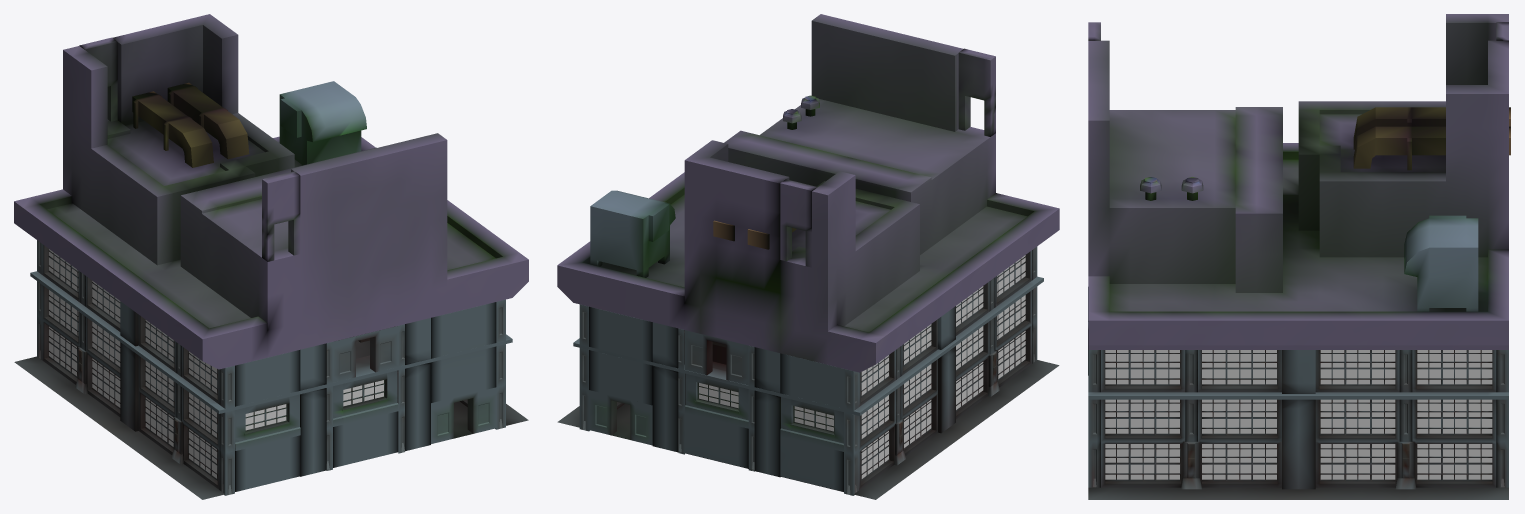
The picture shows the model from 3 angles, left to right: view 1: azimuth 30°, elevation 25°; view 2: azimuth 150°, elevation 25°; view 3: azimuth 270°, elevation 25°; orthographic projection. The views are drawn at different scales.
Parts seen in each view (by area): view 1: gap roof01, catwalk warehouse01, metalc, glass catwalk warehouse01; view 2: gap roof01, catwalk warehouse01, metalc, glass catwalk warehouse01; view 3: gap roof01, catwalk warehouse01, glass catwalk warehouse01, metalc.
Part boxes in pixels (left/top/right/bottom): gap roof01: left=14, top=14, right=528, bottom=369; catwalk warehouse01: left=14, top=240, right=528, bottom=499; metalc: left=48, top=81, right=384, bottom=480; glass catwalk warehouse01: left=49, top=249, right=383, bottom=478; gap roof01: left=557, top=14, right=1059, bottom=372; catwalk warehouse01: left=557, top=246, right=1059, bottom=499; metalc: left=590, top=95, right=1025, bottom=480; glass catwalk warehouse01: left=699, top=255, right=1025, bottom=478; gap roof01: left=1088, top=14, right=1508, bottom=349; catwalk warehouse01: left=1088, top=287, right=1508, bottom=499; glass catwalk warehouse01: left=1105, top=350, right=1492, bottom=479; metalc: left=1105, top=107, right=1510, bottom=481.
Size of the model in its own units: 20 by 17.69 by 20.11.
